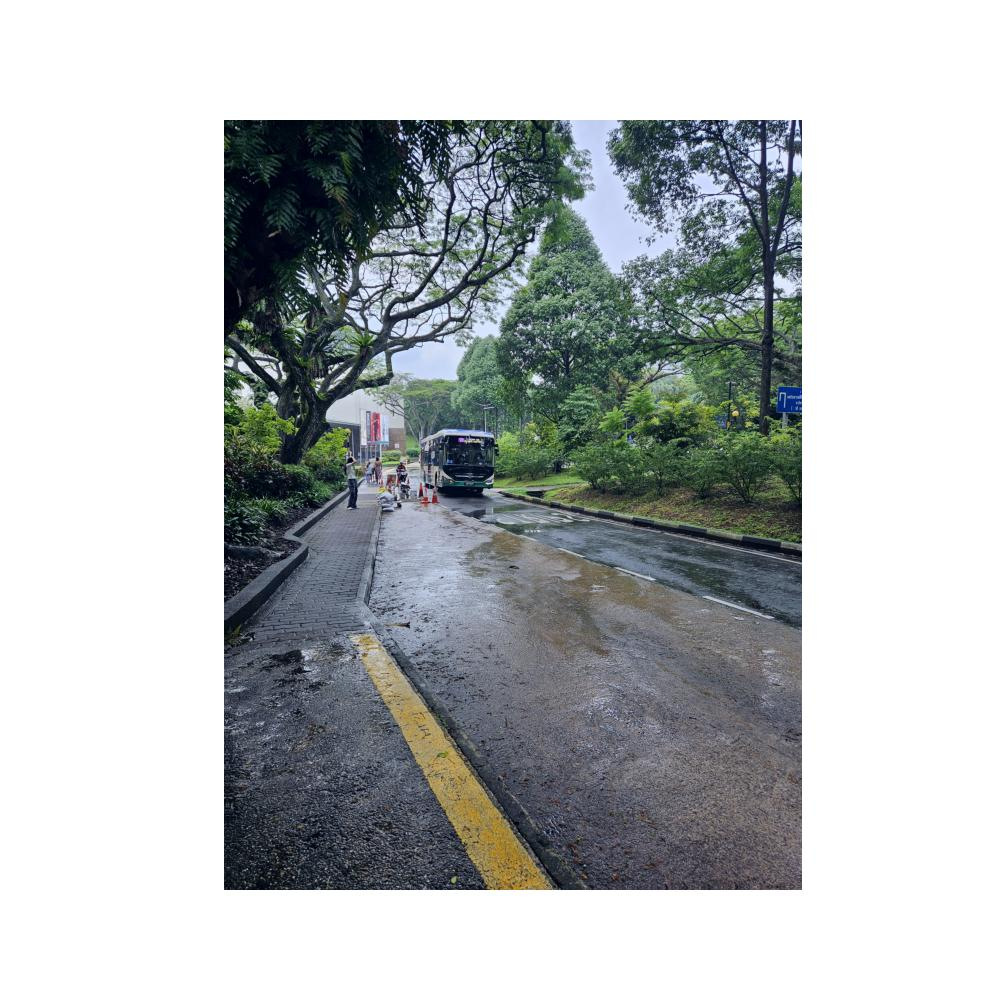bus: (419, 426, 501, 500)
